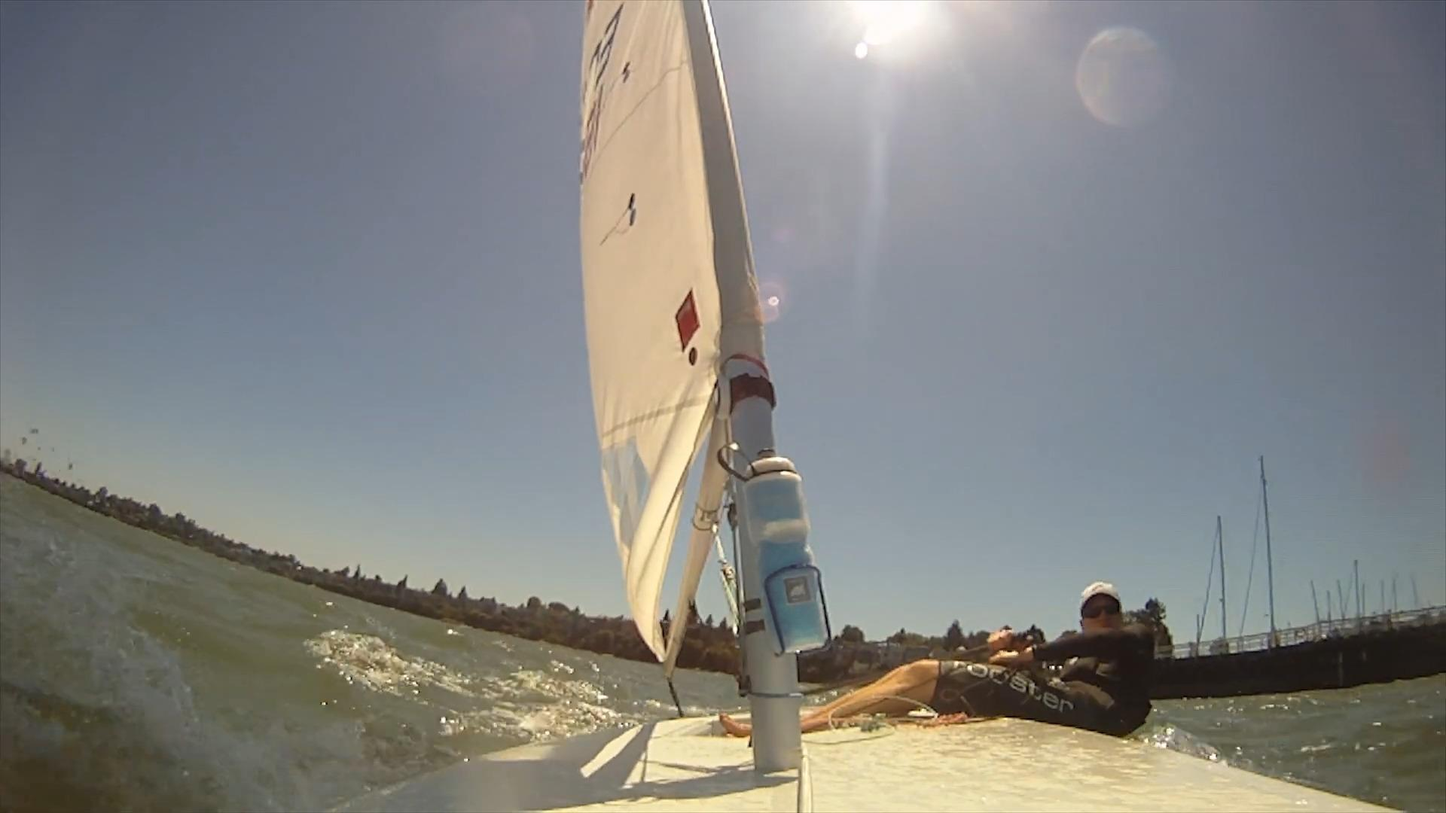boat: (342, 0, 1405, 813)
land: (0, 461, 746, 674), (1146, 626, 1446, 699), (796, 637, 996, 689)
person: (802, 581, 1165, 737)
sea: (0, 469, 746, 813), (1146, 674, 1446, 813)
sky: (703, 0, 1446, 647), (0, 0, 631, 620)
